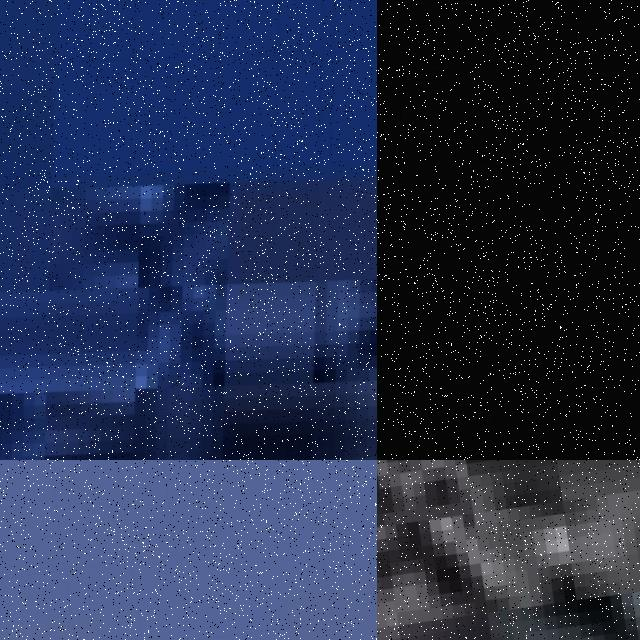0: (0, 0, 377, 460)
drone: (377, 0, 640, 460)
